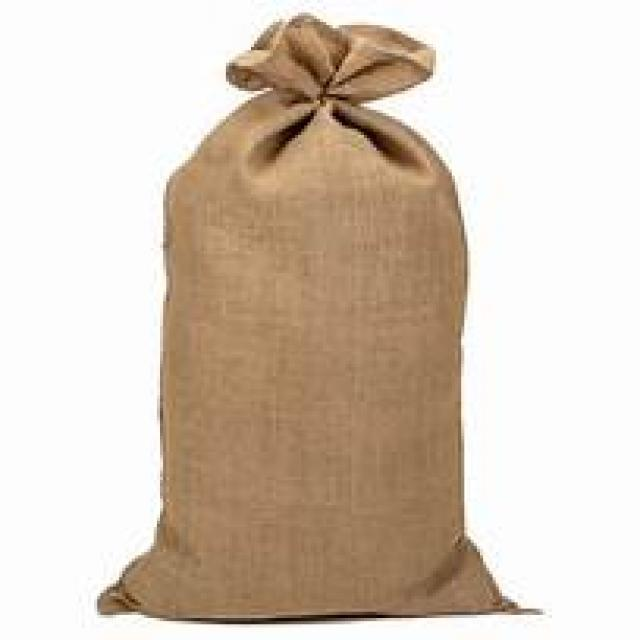gunny_bag: (88, 6, 543, 629)
